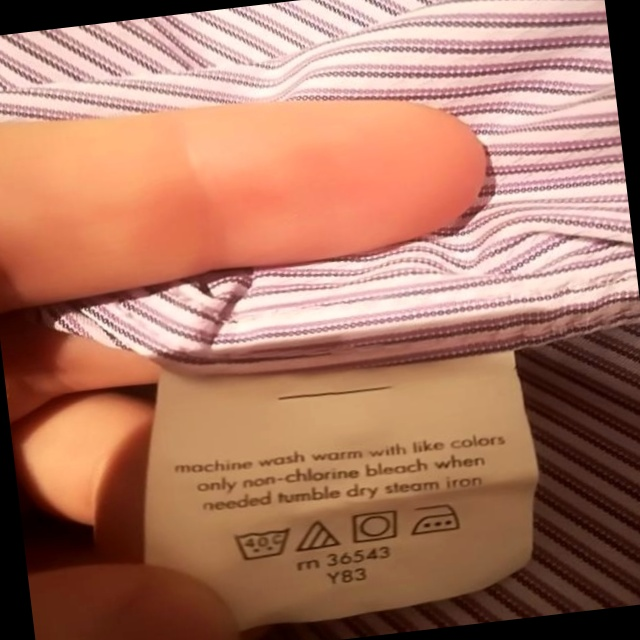40C: (231, 522, 296, 566)
iron_high: (408, 498, 467, 539)
non_chlorine_bleach: (293, 516, 342, 556)
tumble_dry_normal: (349, 508, 405, 547)
